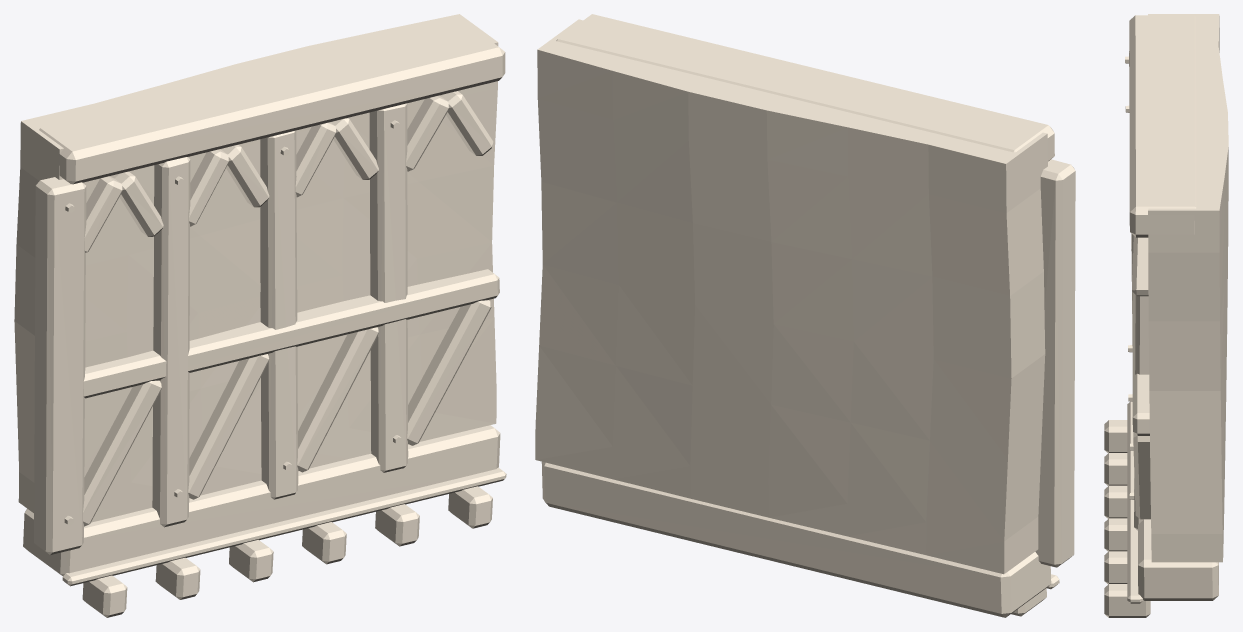
Rendered from SM_VK_Wall_Timber_K.fbx.
The picture shows the model from 3 angles, left to right: view 1: azimuth 30°, elevation 25°; view 2: azimuth 150°, elevation 25°; view 3: azimuth 270°, elevation 25°; orthographic projection. The views are drawn at different scales.
Parts seen in each view (by area): view 1: SM_VK_Wall_Timber_K.001; view 2: SM_VK_Wall_Timber_K.001; view 3: SM_VK_Wall_Timber_K.001.
Part boxes in pixels (box(x1,y1,x2,y2)): SM_VK_Wall_Timber_K.001: box(14, 14, 506, 617); SM_VK_Wall_Timber_K.001: box(535, 14, 1075, 617); SM_VK_Wall_Timber_K.001: box(1104, 14, 1228, 617).
Bounding box in the file's own units: 3.13 × 3.01 × 0.8024.
